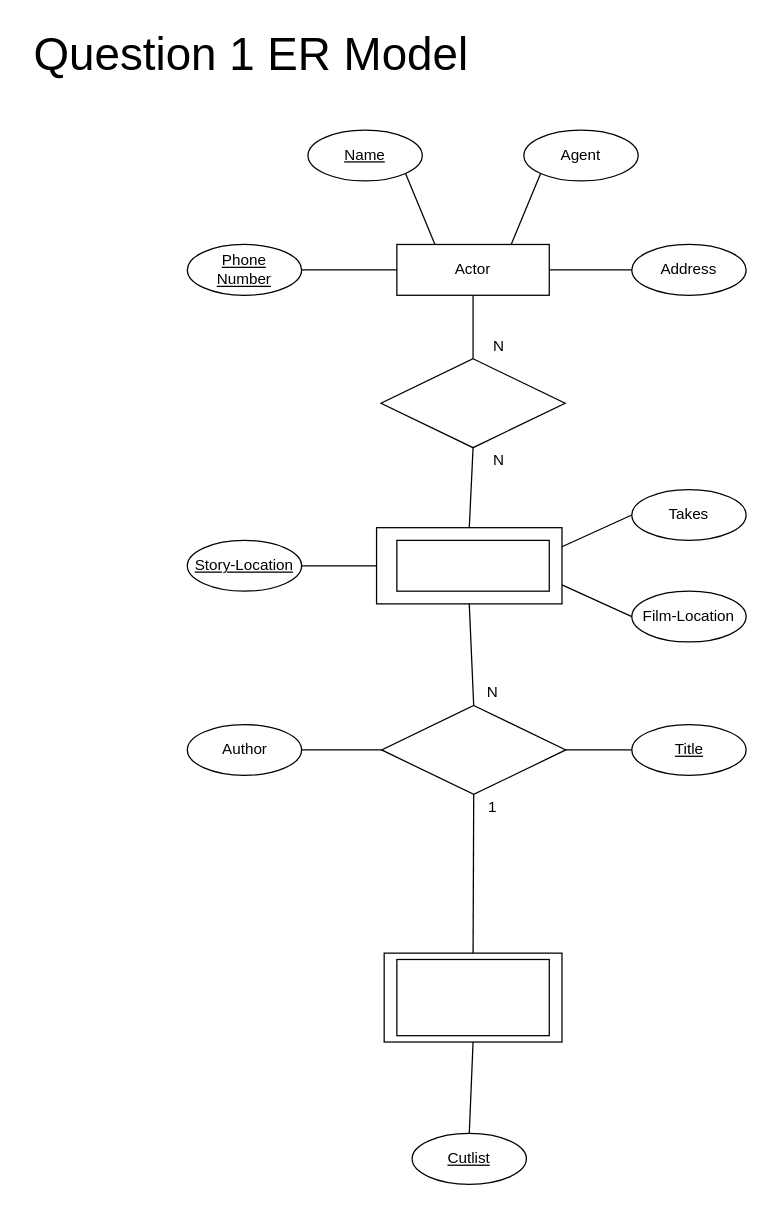
Image size: 768x1207. Some labels were removed from this diagram. Each missing label, with the centre of its shape:
"Movie" belongs at (x=472, y=997).
"Required Actors" belongs at (x=472, y=403).
"Scene" belongs at (x=472, y=565).
"Screenplay" belongs at (x=473, y=749).
